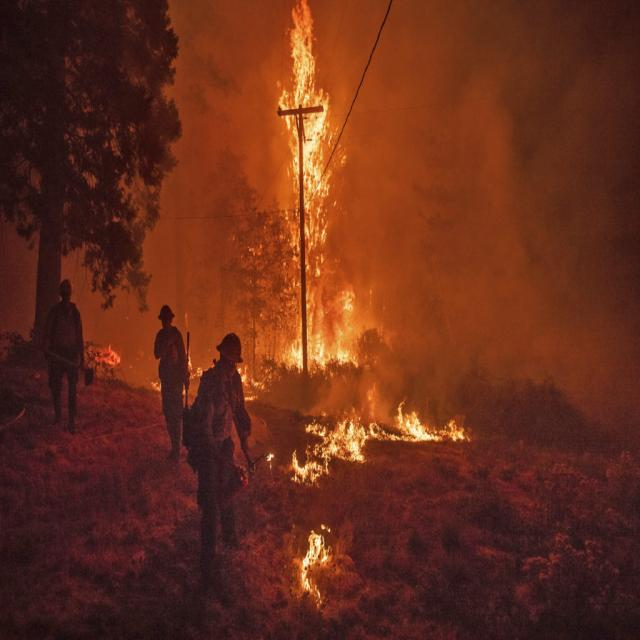fire: (286, 3, 331, 199), (295, 418, 364, 481), (394, 407, 469, 444), (302, 527, 326, 602)
